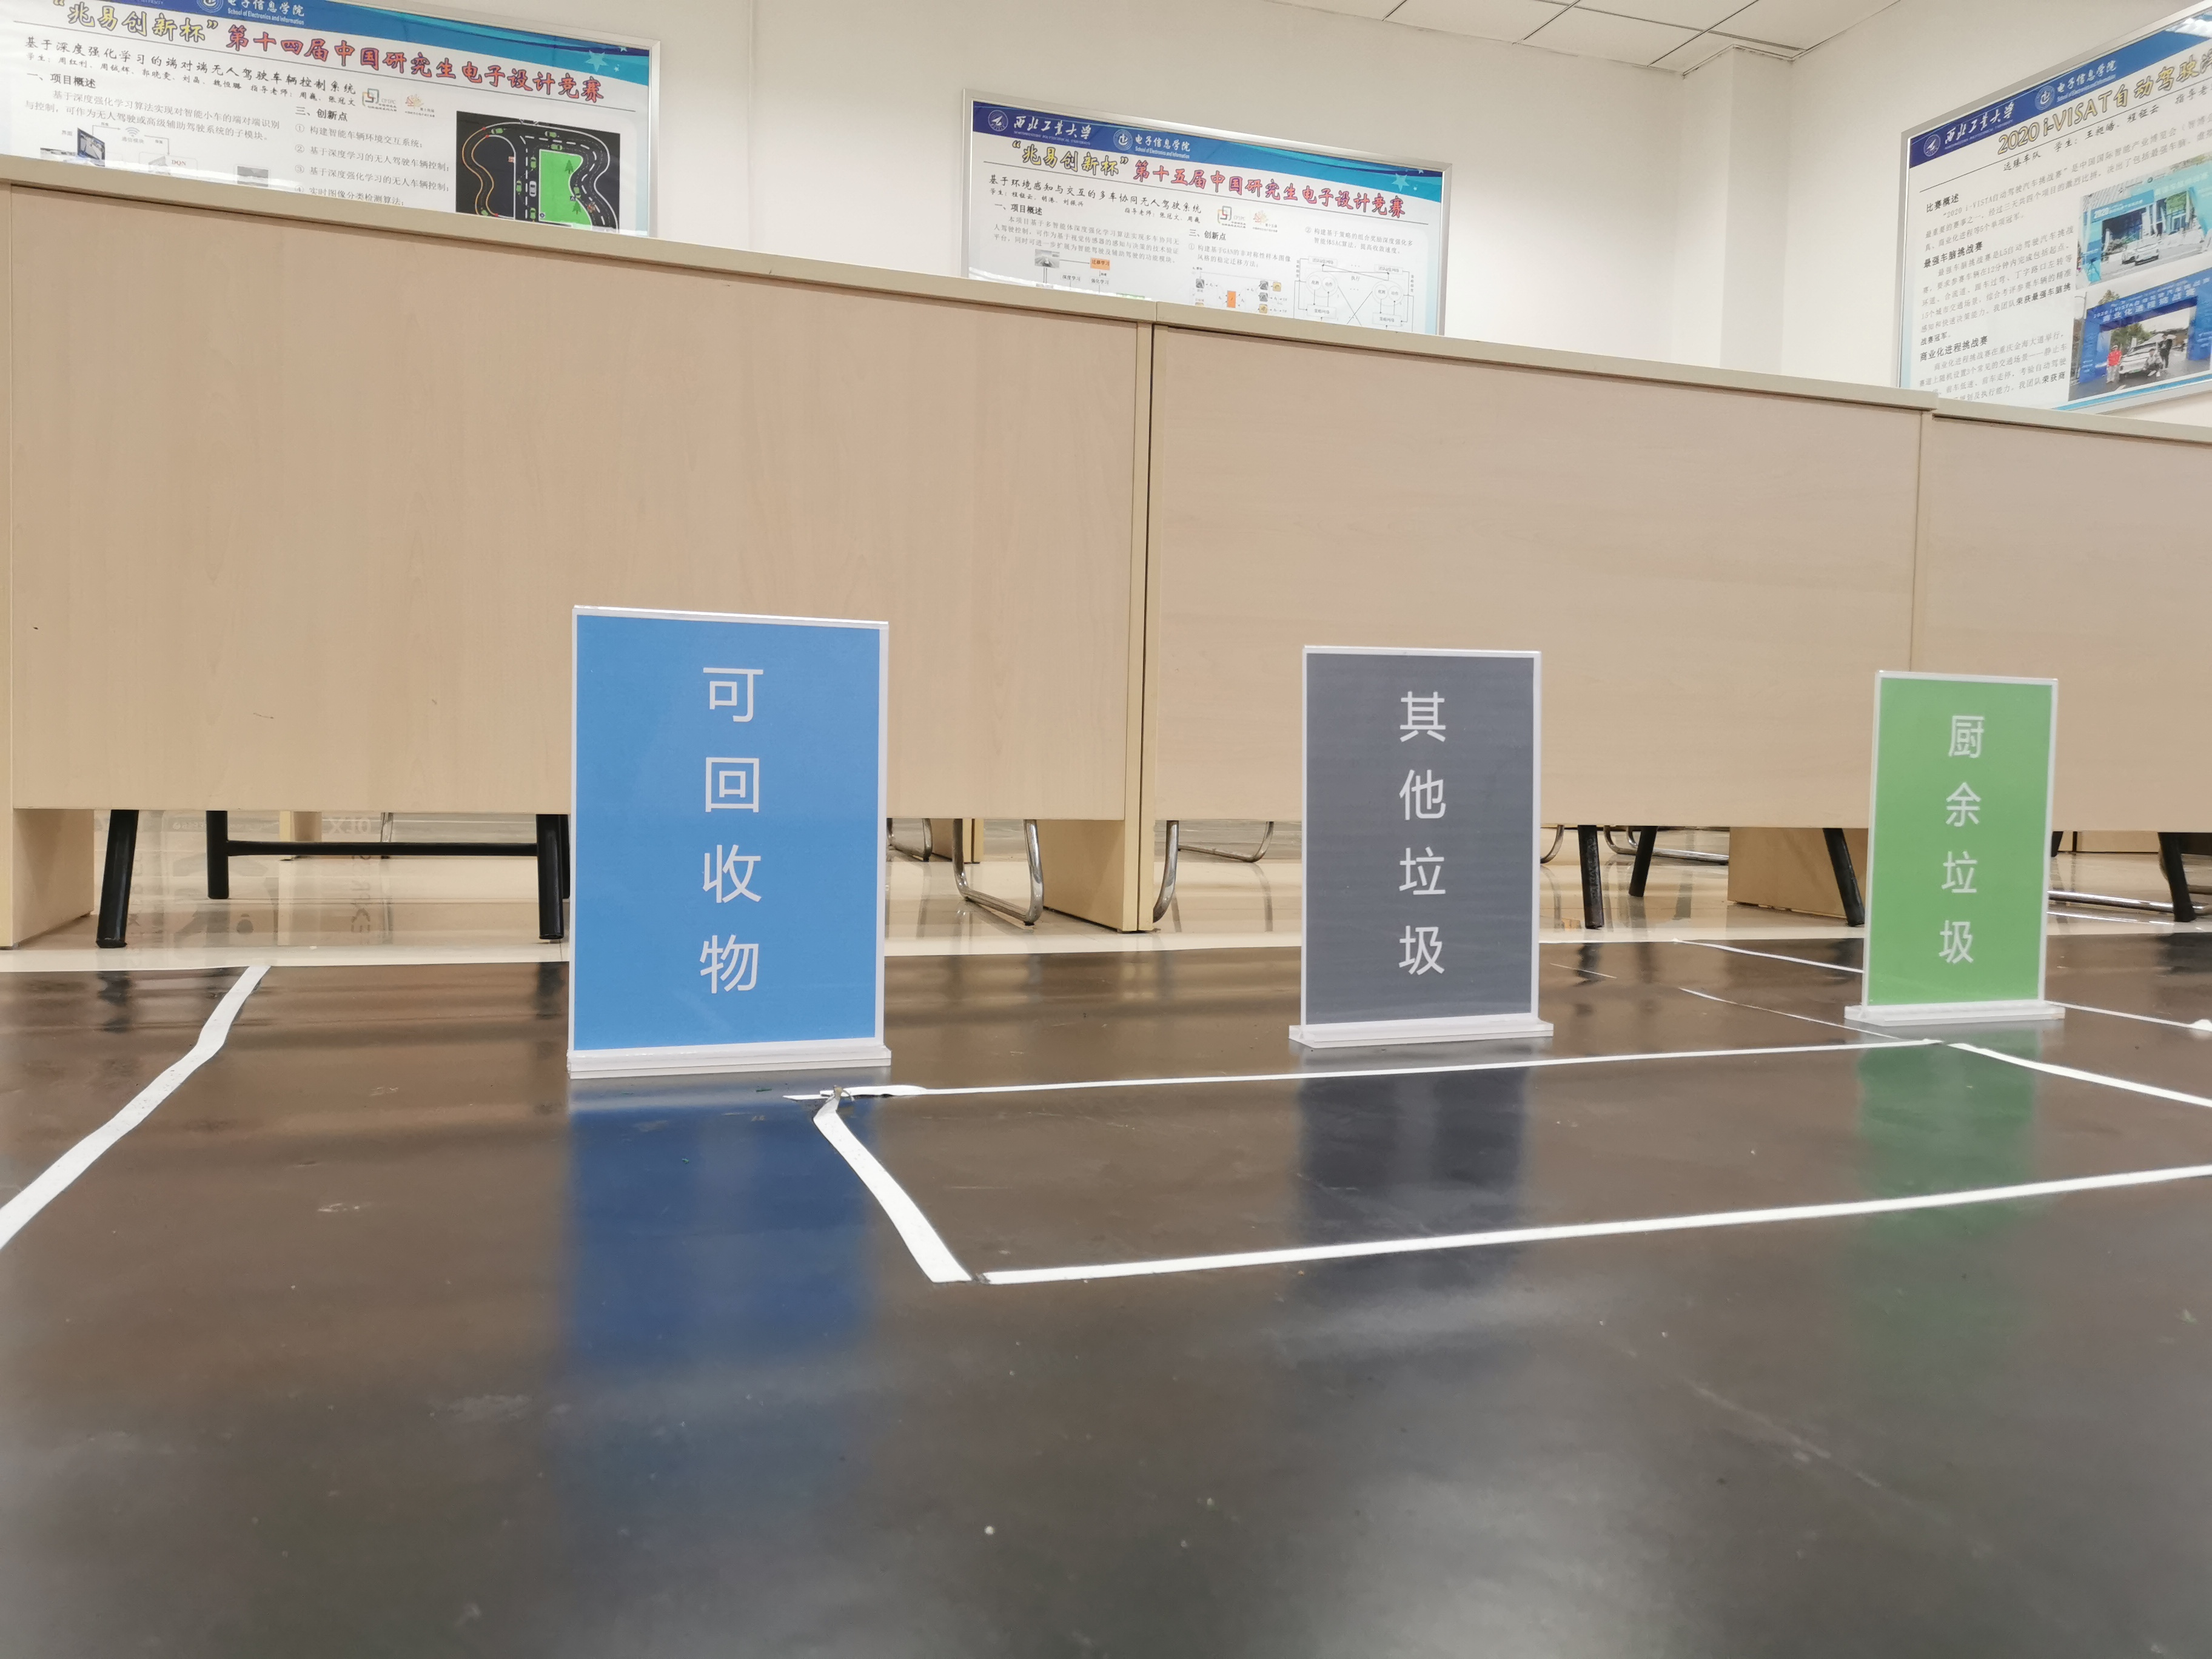black: (1313, 659, 1527, 1004)
blue: (582, 620, 874, 1032)
green: (1893, 683, 2033, 992)
